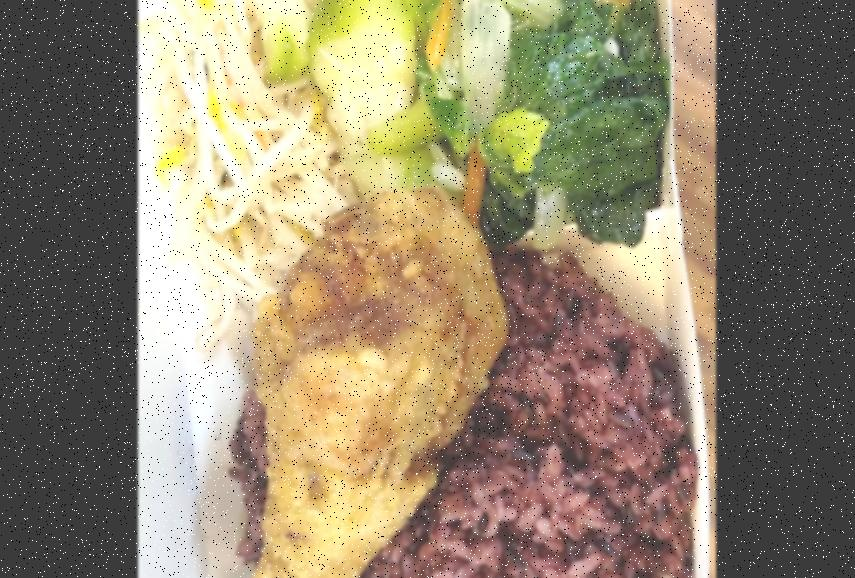box: (150, 0, 700, 578)
purple rice: (225, 253, 694, 578)
side dish: (426, 0, 668, 247), (163, 0, 333, 307), (308, 0, 438, 200)
small fried chicken leg: (223, 187, 512, 578)
